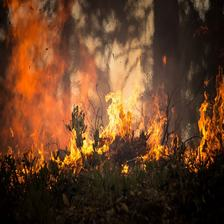fire: (8, 8, 96, 177), (104, 78, 221, 174)
